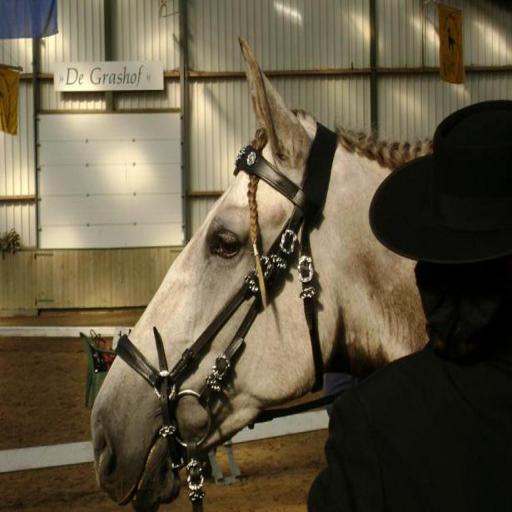horse: (87, 29, 434, 511)
